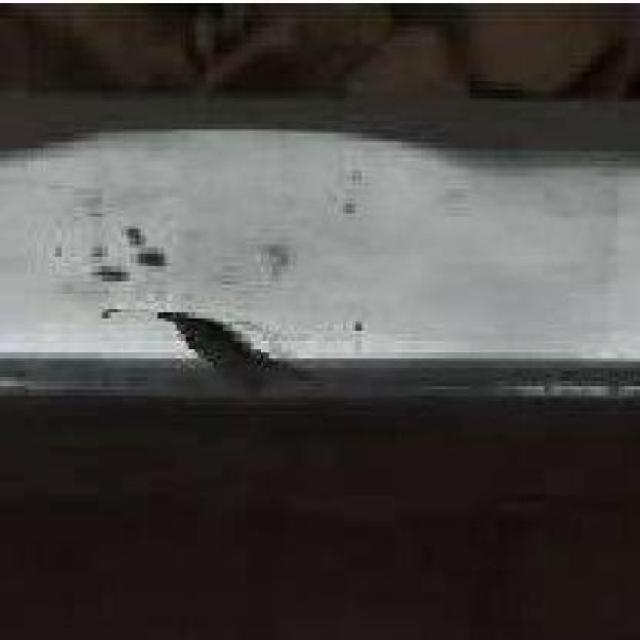defective: (0, 62, 640, 498)
